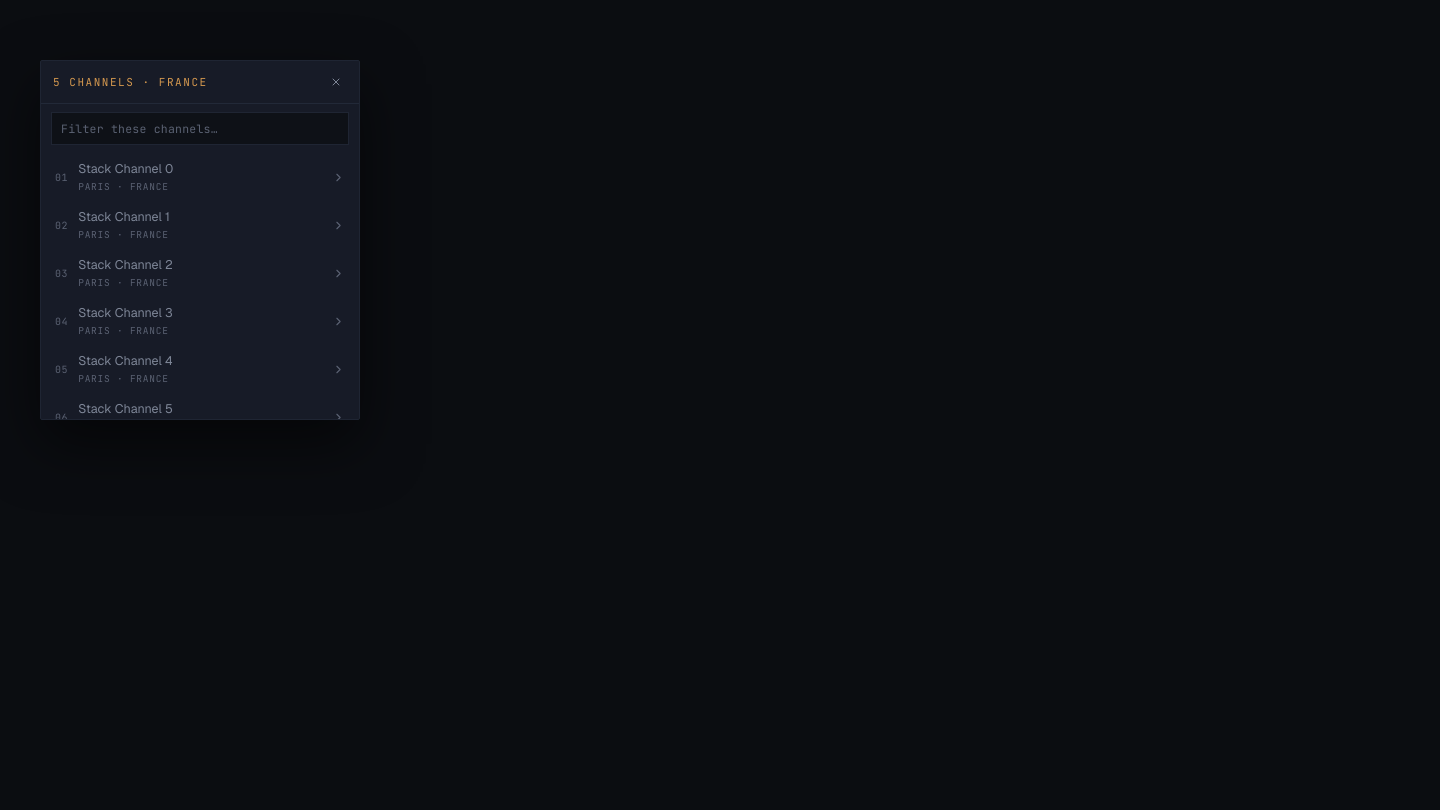
Scenario: ClusterPicker › says so when the filter matches nothing
The image size is (1440, 810).
Type "not-a-channel" into the search field with test id "input-cluster-filter" at (200, 129), box [51, 112, 349, 145]
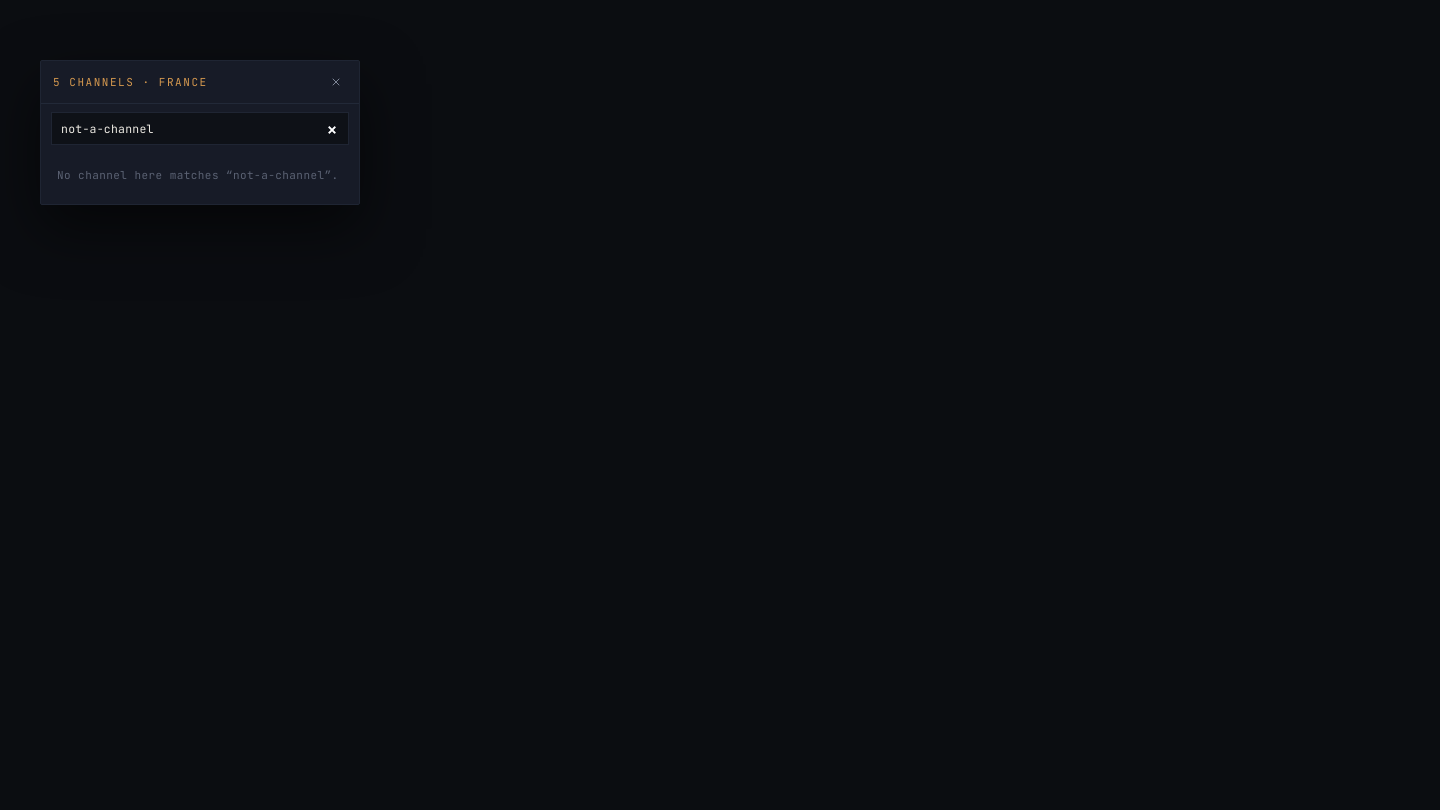
Now the text with test id "cluster-picker-empty" shows "not-a-channel", box [233, 168, 324, 182]
